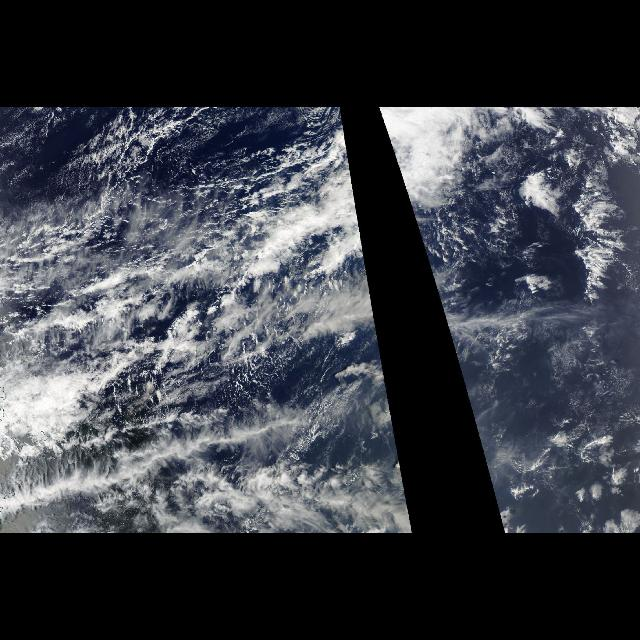Sugar: (141, 110, 329, 228), (485, 313, 639, 425), (0, 108, 132, 202)
